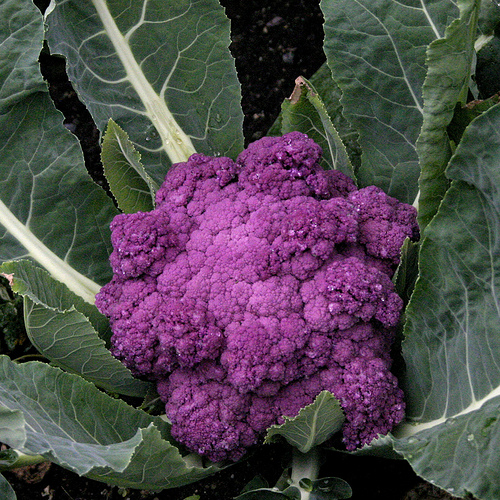cauliflower: (95, 131, 416, 455)
